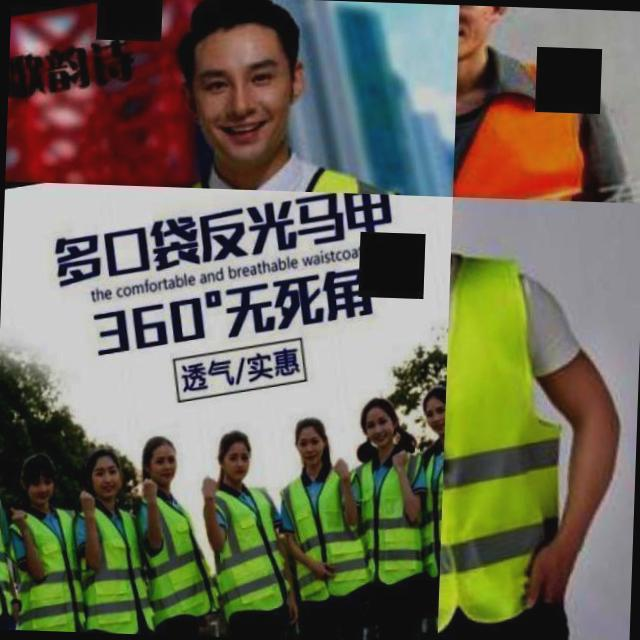vest: (437, 233, 581, 640), (452, 43, 616, 202), (280, 462, 358, 598), (198, 482, 278, 606), (70, 496, 144, 630), (0, 499, 77, 626), (348, 455, 418, 586), (136, 485, 202, 612), (409, 434, 444, 572)
